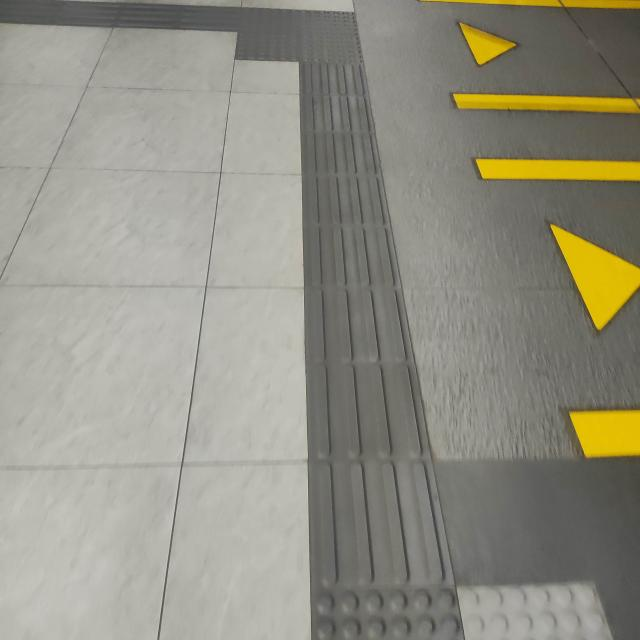kiri: (151, 0, 377, 86)
